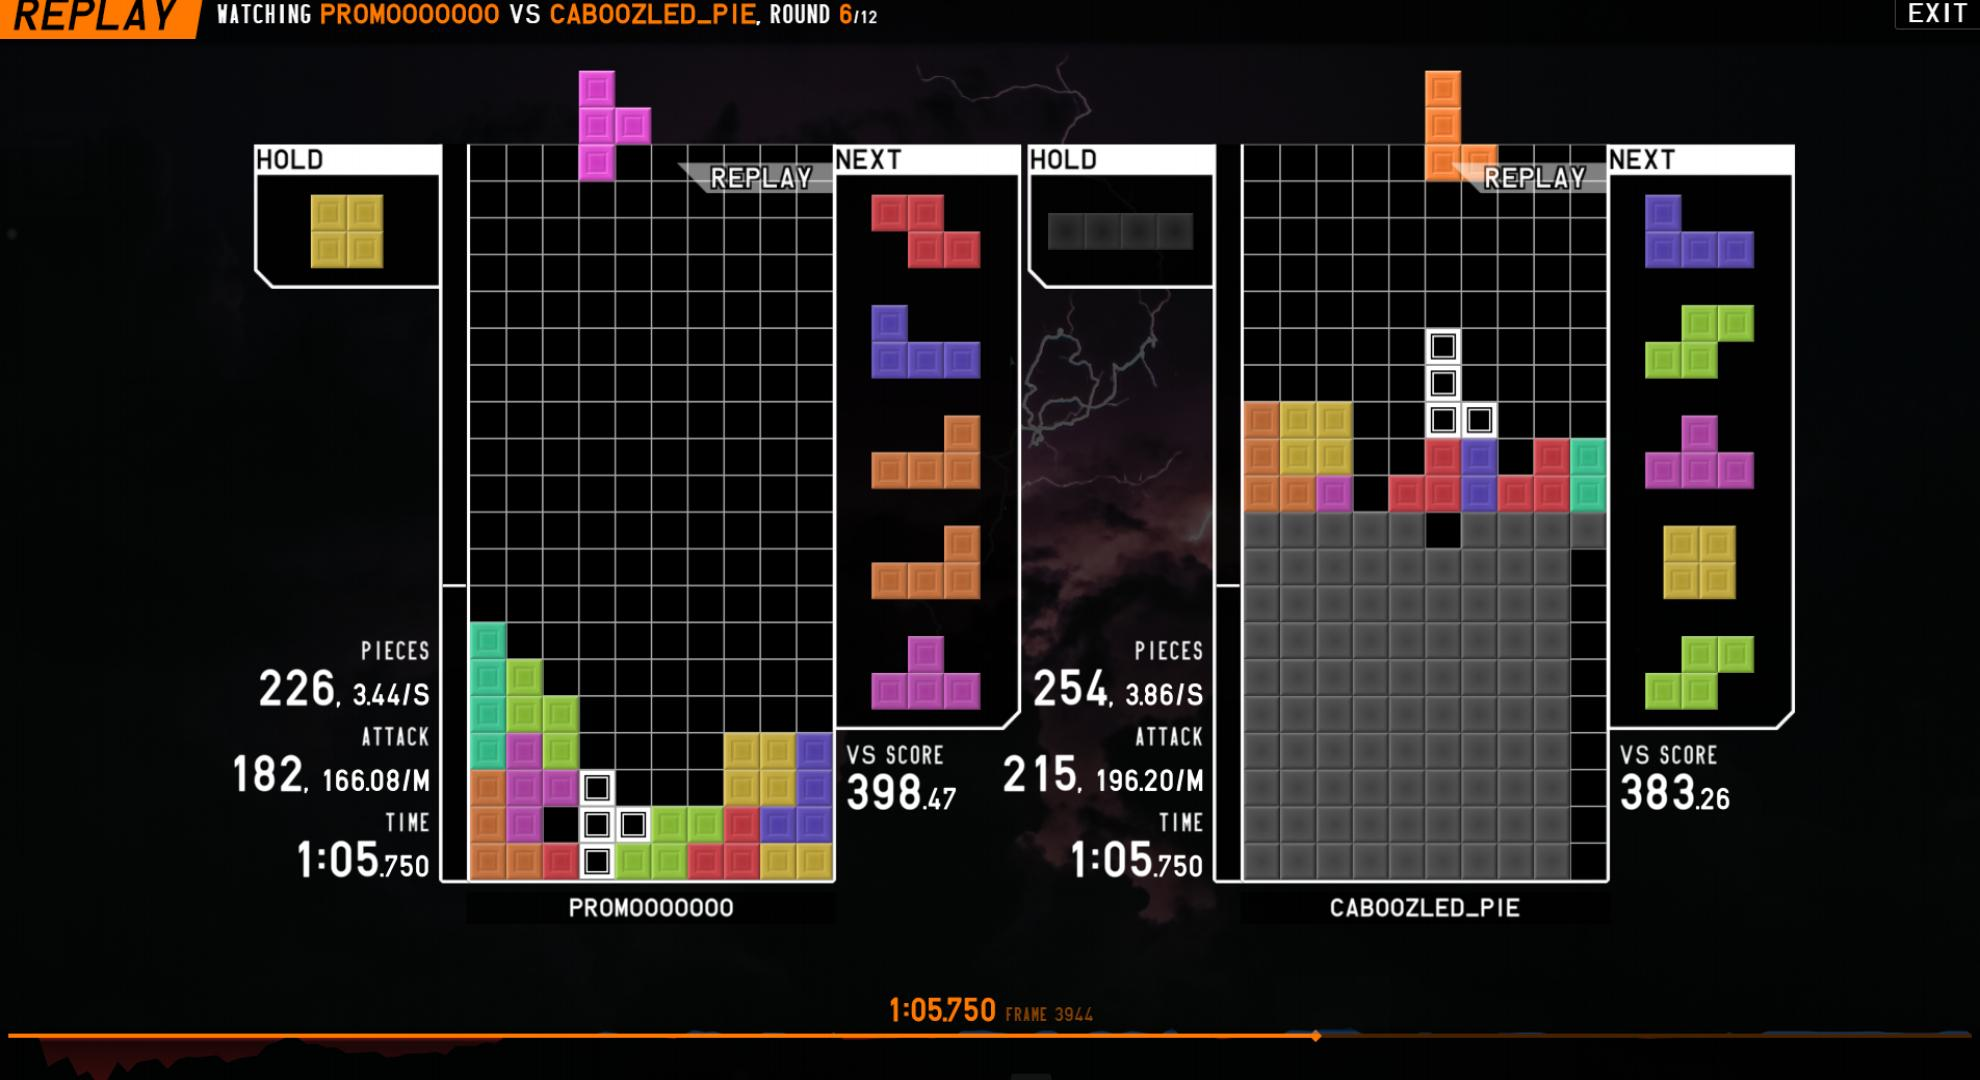tspin: (537, 767, 657, 880)
